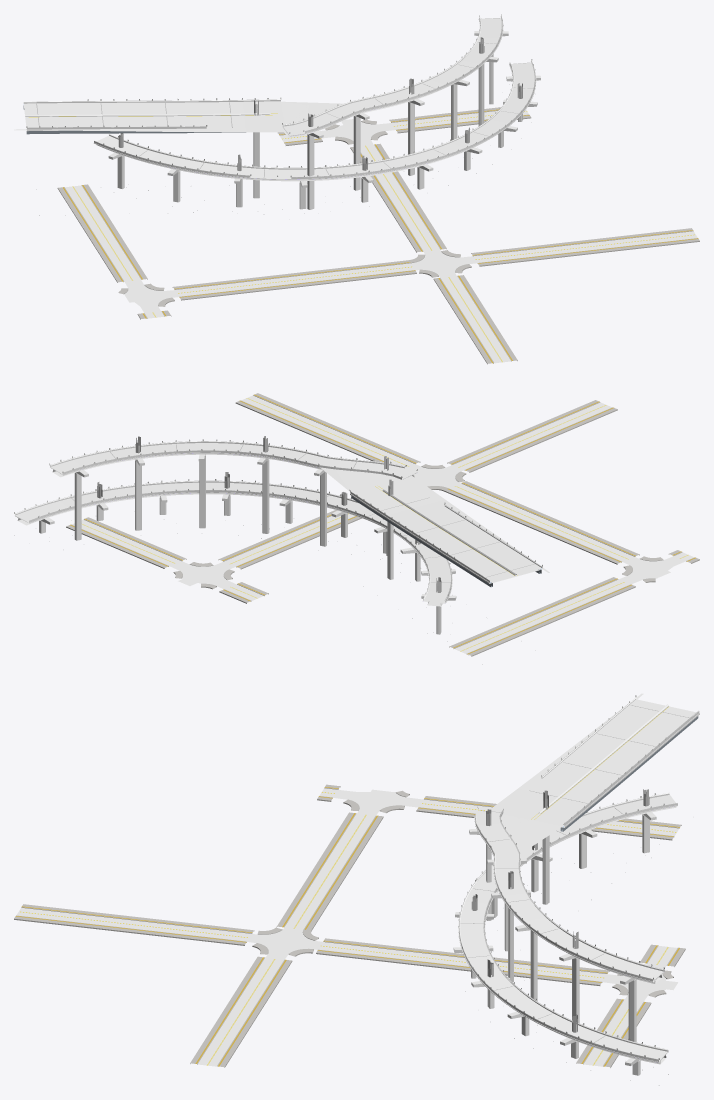
File: roads_3_3.gltf
3 views of the same model, one above another, from view 1: azimuth 30°, elevation 25°; view 2: azimuth 150°, elevation 25°; view 3: azimuth 270°, elevation 25° (orthographic). The views are drawn at different scales.
Visible parts, largest first — view 1: roads_3_3_SH_concrete_pier, roads_3_3_SH_wet_asphalt, roads_3_3_SH_sidewalk, roads_3_3_SH_concrete_barrier, roads_3_3_Road_Tactile_Strip, roads_3_3_SH_kerb, roads_3_3_SH_road_marking_white, roads_3_3_SH_road_marking_yellow, roads_3_3_planter_row_nanpu_pudong_loop, roads_3_3_Road_Ivy, roads_3_3_Road_Steel_Girder; view 2: roads_3_3_SH_concrete_pier, roads_3_3_SH_wet_asphalt, roads_3_3_SH_sidewalk, roads_3_3_SH_concrete_barrier, roads_3_3_Road_Tactile_Strip, roads_3_3_SH_kerb, roads_3_3_SH_road_marking_white, roads_3_3_SH_road_marking_yellow, roads_3_3_planter_row_nanpu_pudong_loop, roads_3_3_Road_Ivy, roads_3_3_Road_Steel_Girder; view 3: roads_3_3_SH_concrete_pier, roads_3_3_SH_wet_asphalt, roads_3_3_SH_sidewalk, roads_3_3_SH_concrete_barrier, roads_3_3_Road_Tactile_Strip, roads_3_3_SH_kerb, roads_3_3_SH_road_marking_white, roads_3_3_SH_road_marking_yellow, roads_3_3_planter_row_nanpu_pudong_loop, roads_3_3_Road_Ivy.
Boxes of the visible parts, x1,y1,x2,y2 form: roads_3_3_SH_concrete_pier: [24, 18, 540, 209]; roads_3_3_SH_wet_asphalt: [14, 18, 697, 363]; roads_3_3_SH_sidewalk: [57, 107, 699, 364]; roads_3_3_SH_concrete_barrier: [23, 16, 535, 178]; roads_3_3_Road_Tactile_Strip: [63, 109, 698, 363]; roads_3_3_SH_kerb: [64, 110, 697, 363]; roads_3_3_SH_road_marking_white: [24, 18, 693, 362]; roads_3_3_SH_road_marking_yellow: [29, 111, 694, 362]; roads_3_3_planter_row_nanpu_pudong_loop: [105, 16, 535, 177]; roads_3_3_Road_Ivy: [118, 37, 522, 170]; roads_3_3_Road_Steel_Girder: [23, 105, 245, 134]; roads_3_3_SH_concrete_pier: [15, 443, 542, 634]; roads_3_3_SH_wet_asphalt: [16, 395, 693, 653]; roads_3_3_SH_sidewalk: [66, 393, 699, 656]; roads_3_3_SH_concrete_barrier: [15, 441, 542, 602]; roads_3_3_Road_Tactile_Strip: [70, 394, 695, 654]; roads_3_3_SH_kerb: [71, 395, 694, 654]; roads_3_3_SH_road_marking_white: [16, 396, 691, 653]; roads_3_3_SH_road_marking_yellow: [82, 398, 688, 651]; roads_3_3_planter_row_nanpu_pudong_loop: [15, 441, 451, 593]; roads_3_3_Road_Ivy: [97, 436, 441, 592]; roads_3_3_Road_Steel_Girder: [351, 496, 541, 587]; roads_3_3_SH_concrete_pier: [453, 705, 699, 1075]; roads_3_3_SH_wet_asphalt: [16, 693, 689, 1066]; roads_3_3_SH_sidewalk: [14, 784, 685, 1067]; roads_3_3_SH_concrete_barrier: [459, 697, 699, 1061]; roads_3_3_Road_Tactile_Strip: [15, 787, 679, 1066]; roads_3_3_SH_kerb: [16, 787, 679, 1066]; roads_3_3_SH_road_marking_white: [22, 700, 678, 1066]; roads_3_3_SH_road_marking_yellow: [20, 707, 676, 1065]; roads_3_3_planter_row_nanpu_pudong_loop: [459, 795, 667, 1059]; roads_3_3_Road_Ivy: [471, 789, 649, 1032].
Size of what is drawn, in the model's own units: 289 by 50.51 by 280.
